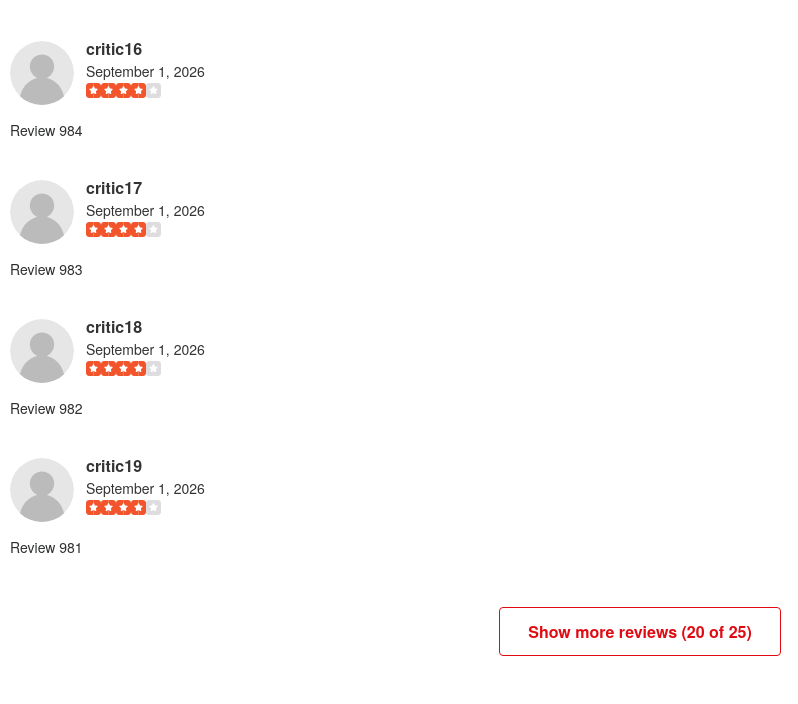
Scenario: past twenty reviews, Show more brings the rest, once each, and then goes
(page scrolled)
Click the button "Show more reviews (20 of 25)".
click(640, 631)  # box [499,607,781,656]
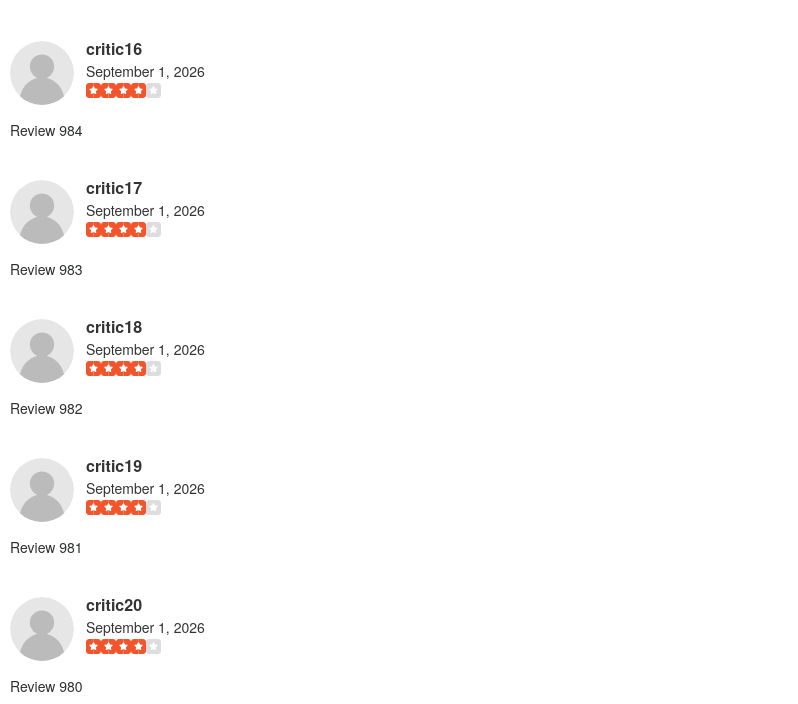
Result: the button "Show more reviews (20 of 25)" is gone
